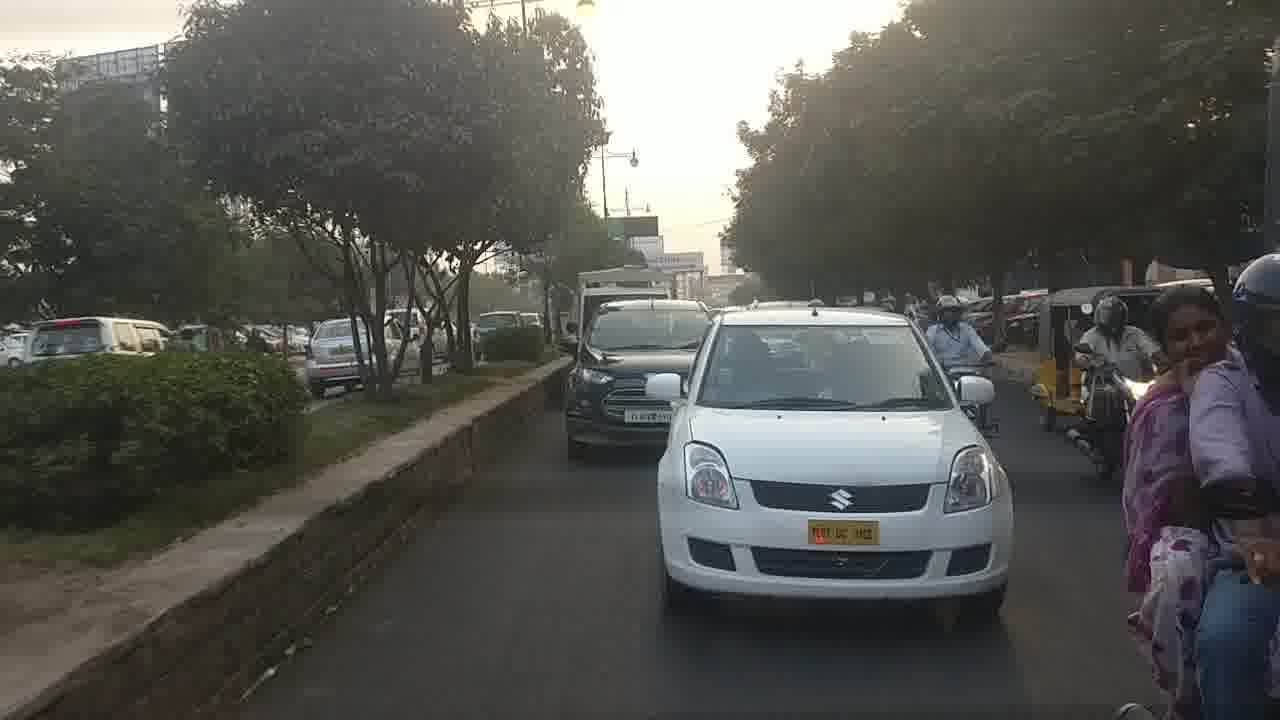swift desire: (672, 315, 1008, 597)
